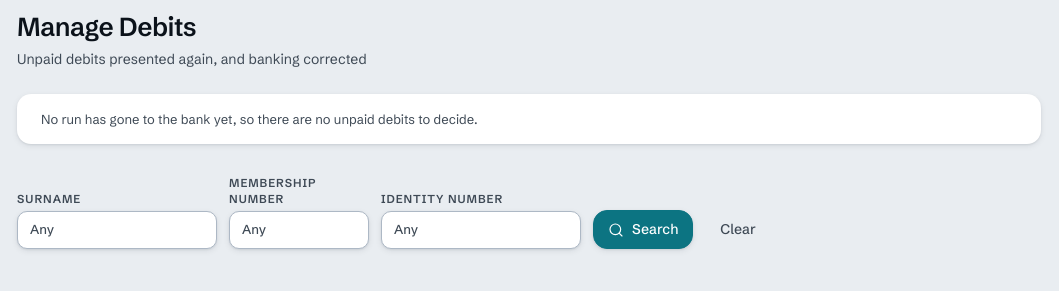
Test case: AcbDebits, the member search › 🔒 a search with nothing in it asks nothing, and says what to type
Click the button "Search" at (643,230), box [593,210,693,249]
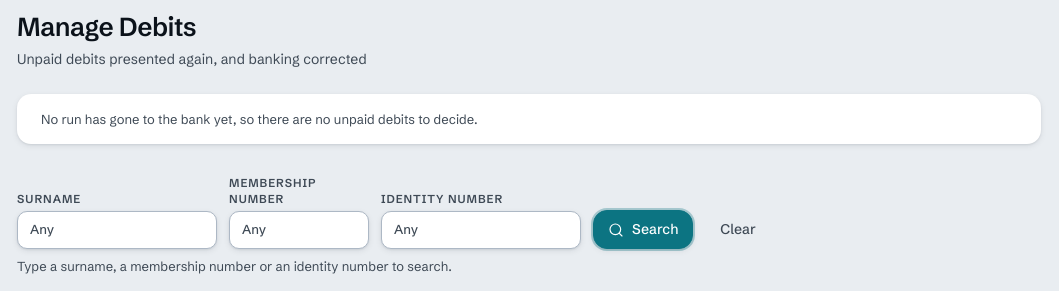
Check: the text "Type a surname, a membership number or an identity number to search." is shown, box [17,258,452,274]
